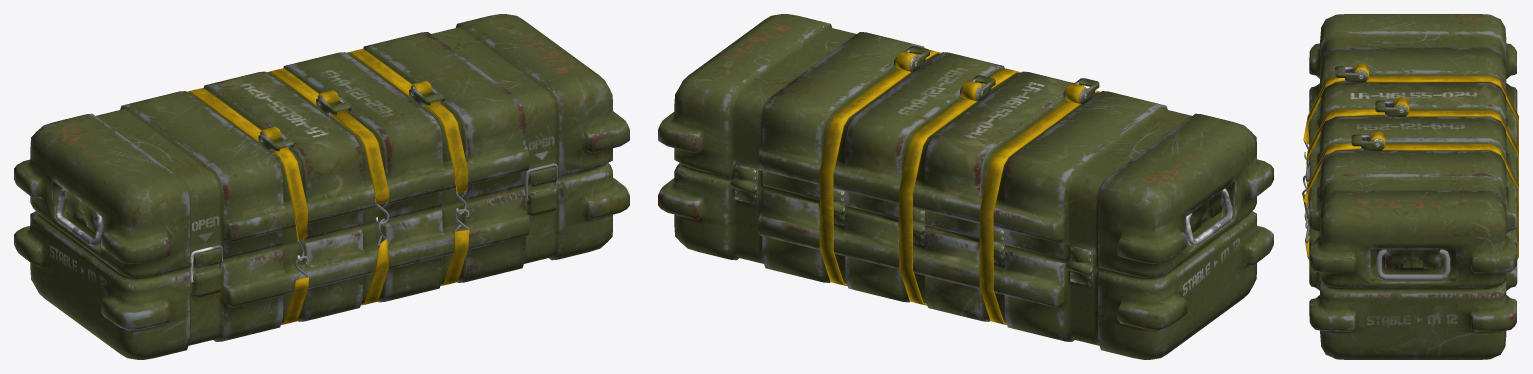
The model's file is weapons_case.glb.
3 renders of one model, left to right at view 1: azimuth 30°, elevation 25°; view 2: azimuth 150°, elevation 25°; view 3: azimuth 270°, elevation 25°, orthographic. The views are drawn at different scales.
Parts seen in each view (by area): view 1: weapons_case; view 2: weapons_case; view 3: weapons_case.
Boxes of the visible parts, x1=… form: weapons_case: x1=14, y1=14, x2=629, y2=359; weapons_case: x1=658, y1=14, x2=1273, y2=359; weapons_case: x1=1302, y1=14, x2=1518, y2=359.
Size of the model in its own units: 1.25 by 0.4329 by 0.5263.
1 material, 1 textured.
